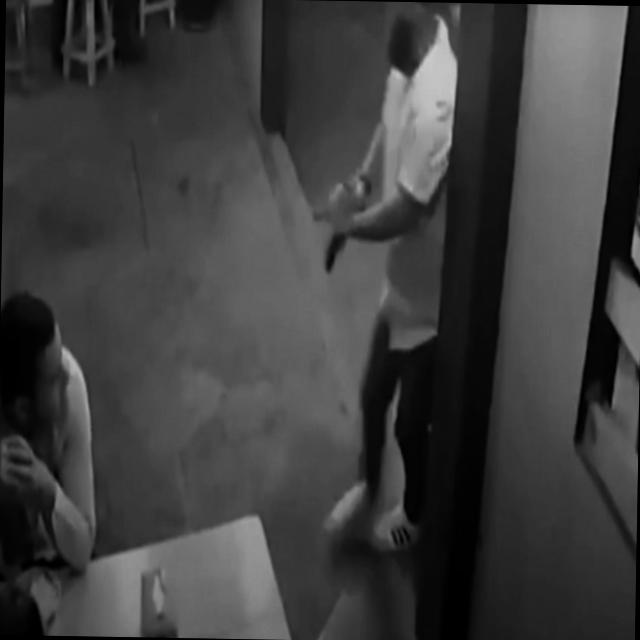gun: (324, 230, 346, 272)
person: (0, 288, 103, 574)
person with a gun: (318, 0, 457, 553)
